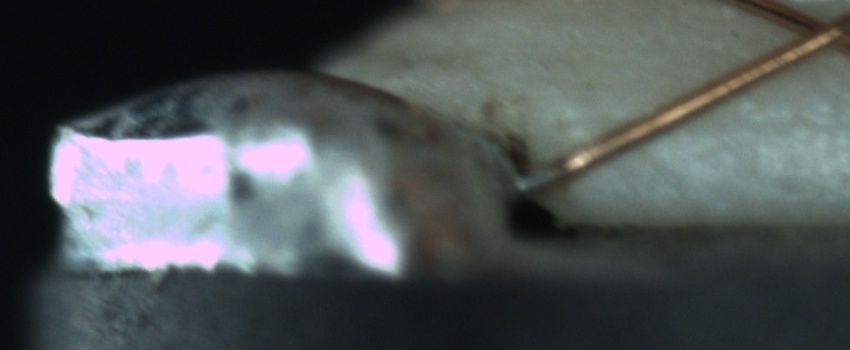CL: (774, 2, 850, 63)
DL: (675, 94, 849, 156)
TS: (513, 163, 560, 194)
